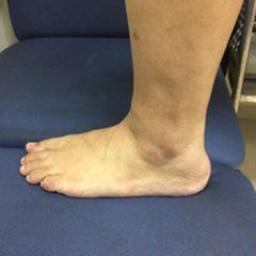Lateral View -Left Foot-: (13, 87, 224, 205)
